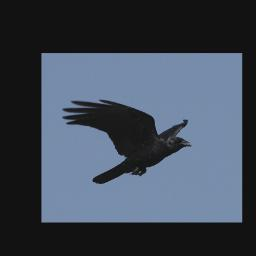Crow: (61, 98, 194, 184)
